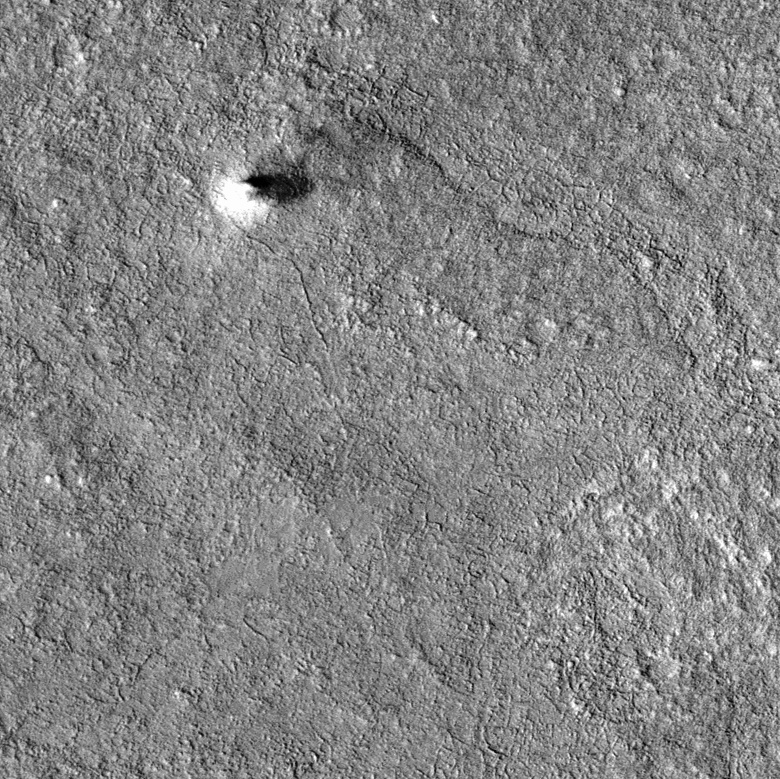dust_devil: (212, 167, 319, 222)
